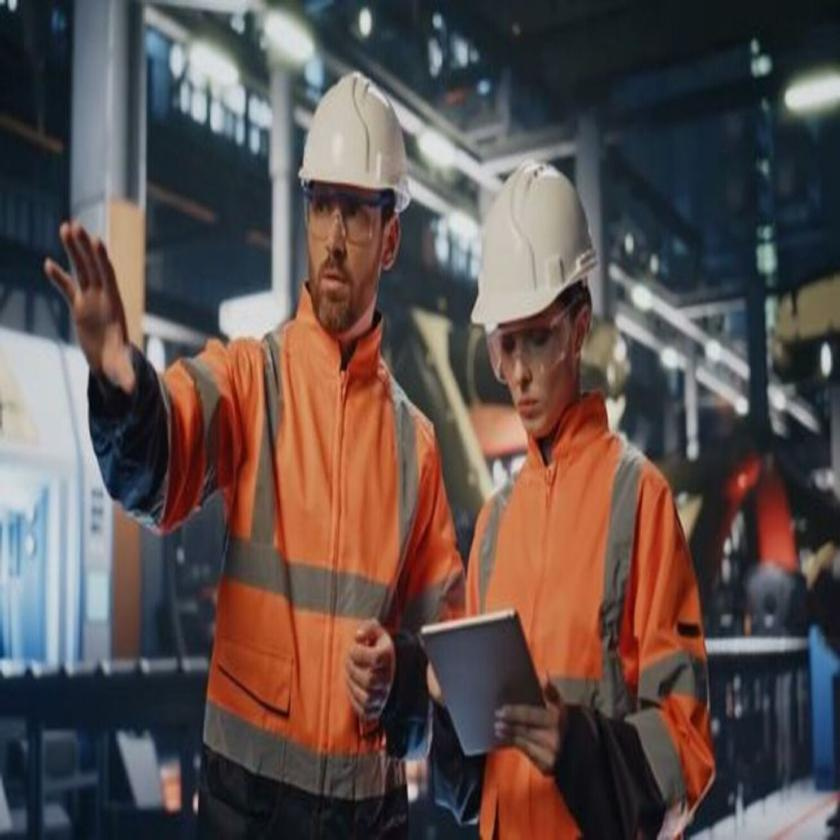Con_casco: (466, 156, 604, 452), (296, 69, 414, 343)
